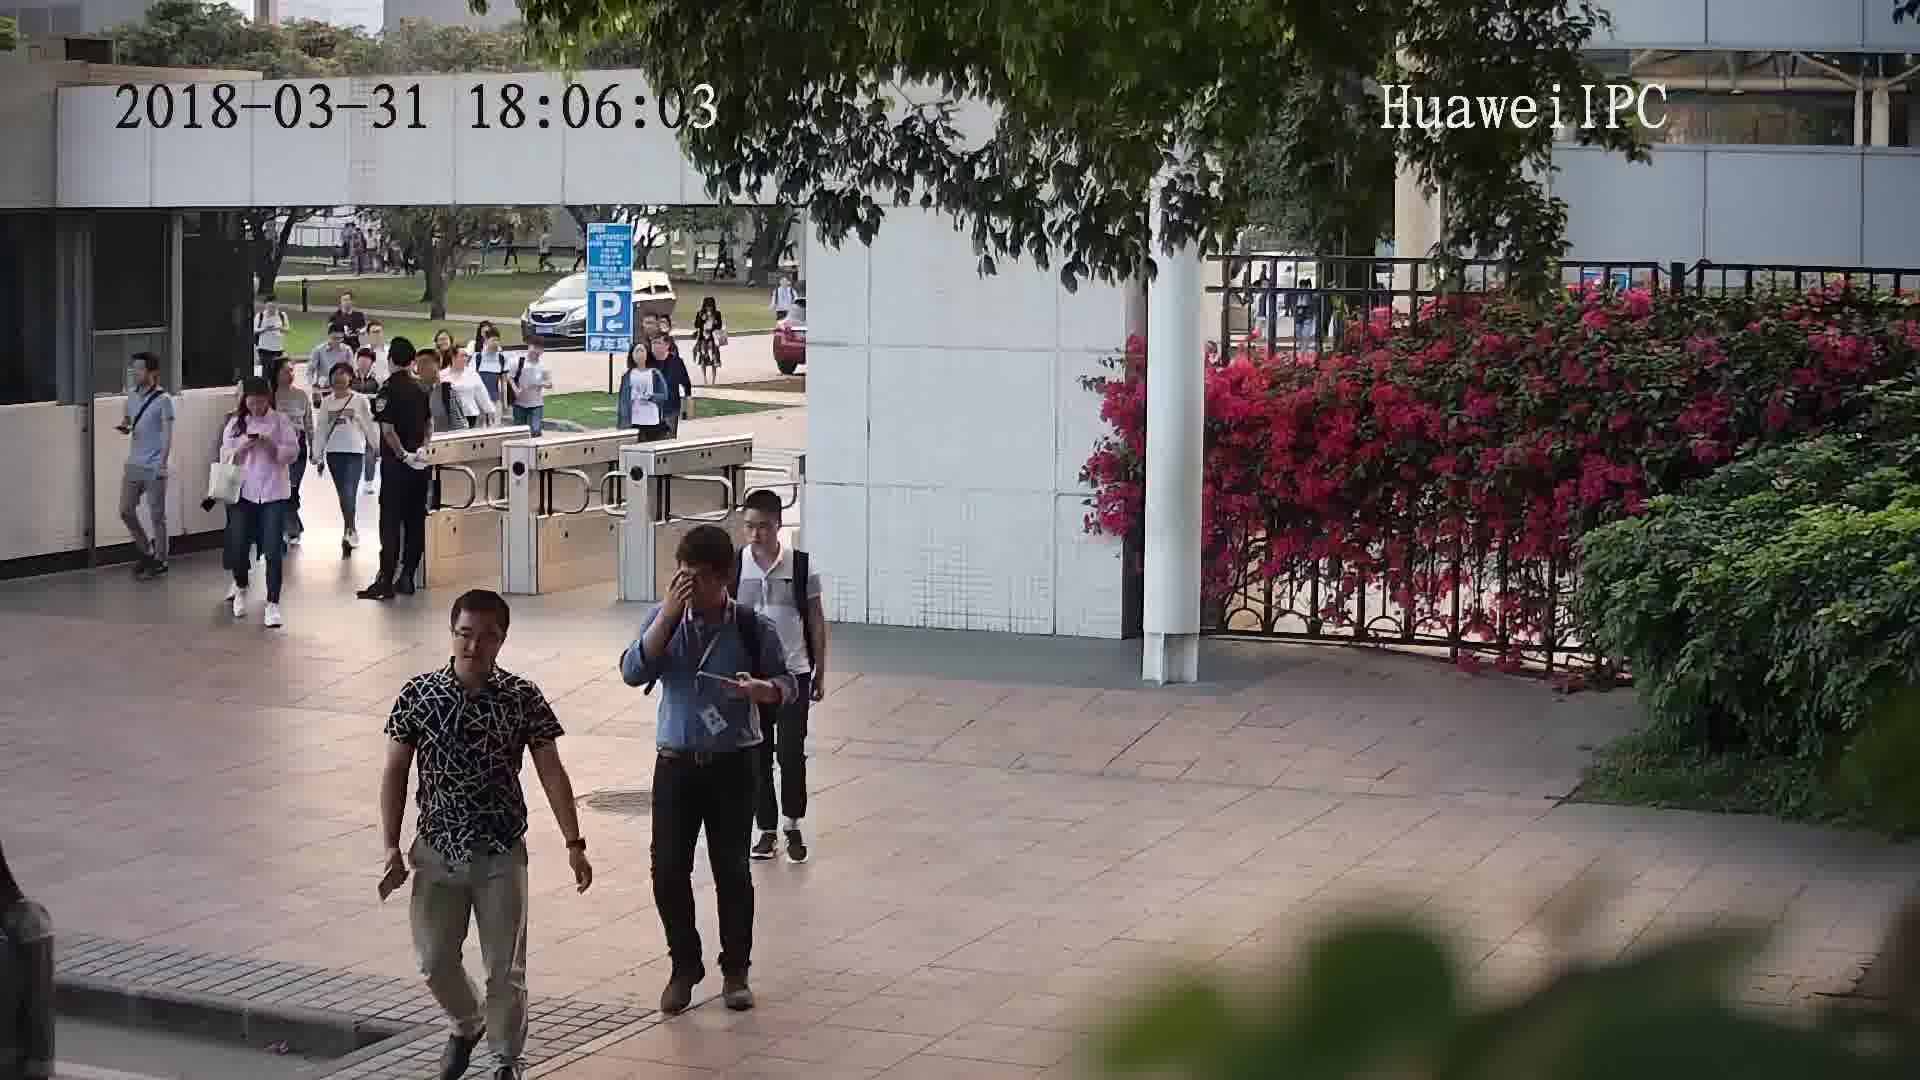face: (445, 608, 509, 673), (673, 555, 725, 618), (739, 509, 779, 557)
person: (395, 587, 549, 720), (655, 524, 777, 651), (734, 484, 818, 586), (229, 373, 293, 431), (125, 348, 173, 415), (316, 359, 369, 412), (380, 337, 425, 400), (264, 356, 313, 407), (343, 346, 390, 394), (443, 341, 485, 394), (622, 339, 666, 387), (307, 319, 356, 361), (471, 320, 509, 369), (648, 334, 695, 371), (512, 328, 552, 370), (253, 294, 298, 328), (362, 316, 395, 356), (331, 288, 364, 321), (695, 290, 727, 321), (769, 276, 797, 299)
